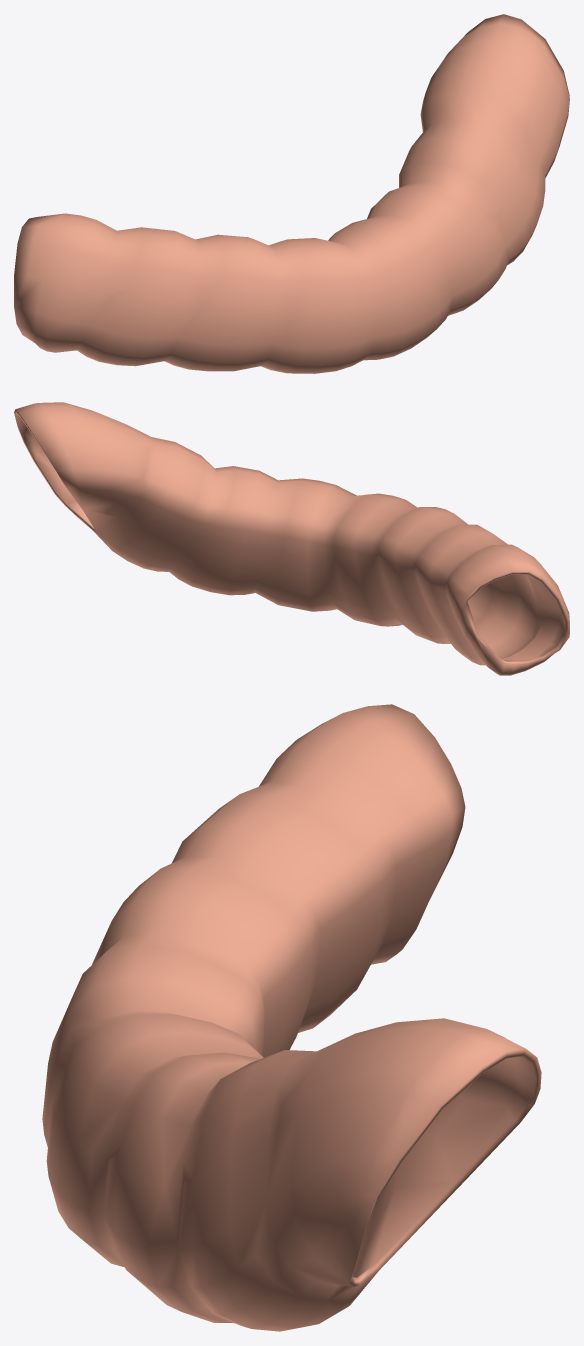
File: visceras-transverse-colon.glb
3 renders of one model, top to bottom at view 1: azimuth 30°, elevation 25°; view 2: azimuth 150°, elevation 25°; view 3: azimuth 270°, elevation 25°, orthographic. The views are drawn at different scales.
Visible parts, largest first — view 1: Transverse colon; view 2: Transverse colon; view 3: Transverse colon.
Boxes of the visible parts, left/top/right/bottom form: Transverse colon: left=14, top=14, right=569, bottom=373; Transverse colon: left=14, top=402, right=569, bottom=675; Transverse colon: left=42, top=704, right=541, bottom=1331.
Size of the model in its own units: 0.1862 by 0.0684 by 0.0753.
